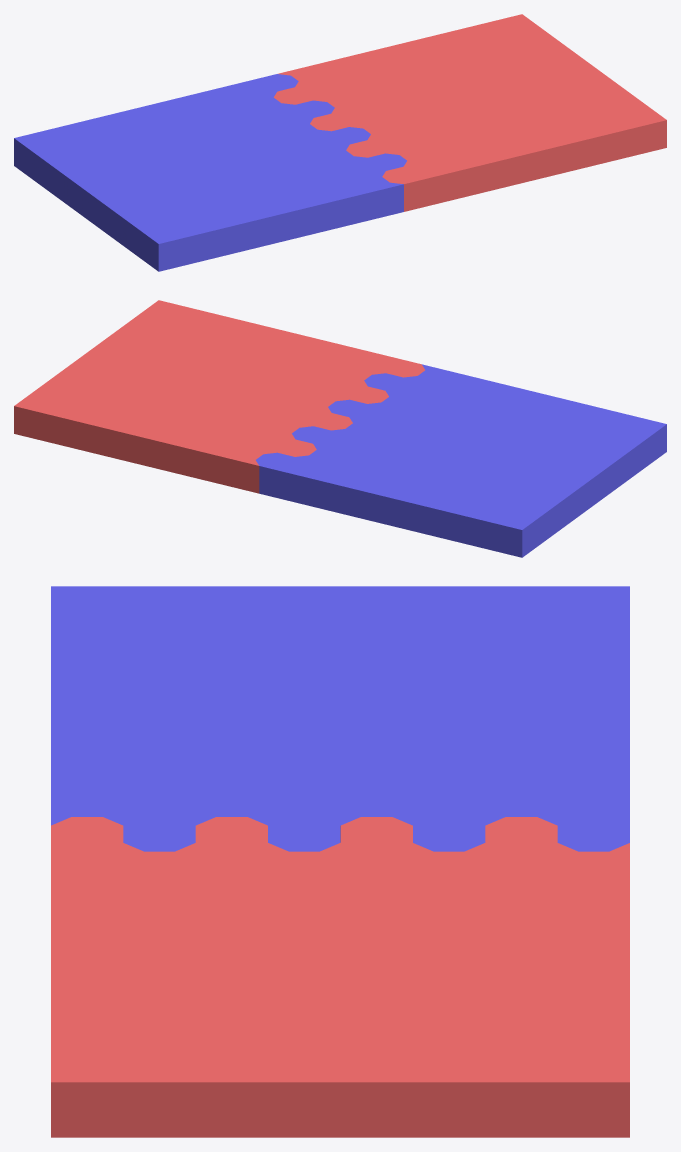
The model's file is Stage02PartsD_ShutterSet_v1.1.FBX.
The picture shows the model from 3 angles, top to bottom: view 1: azimuth 30°, elevation 25°; view 2: azimuth 150°, elevation 25°; view 3: azimuth 270°, elevation 25°; orthographic projection. The views are drawn at different scales.
Parts seen in each view (by area): view 1: ShutterB2, ShutterB1; view 2: ShutterB2, ShutterB1; view 3: ShutterB1, ShutterB2.
Part boxes in pixels (x1,y1,x2,y2): ShutterB2: [14, 74, 406, 271]; ShutterB1: [274, 14, 666, 211]; ShutterB2: [256, 364, 666, 557]; ShutterB1: [14, 300, 424, 493]; ShutterB1: [51, 817, 629, 1137]; ShutterB2: [51, 586, 629, 851].
Bounding box in the file's own units: 591 × 30.83 × 291.
